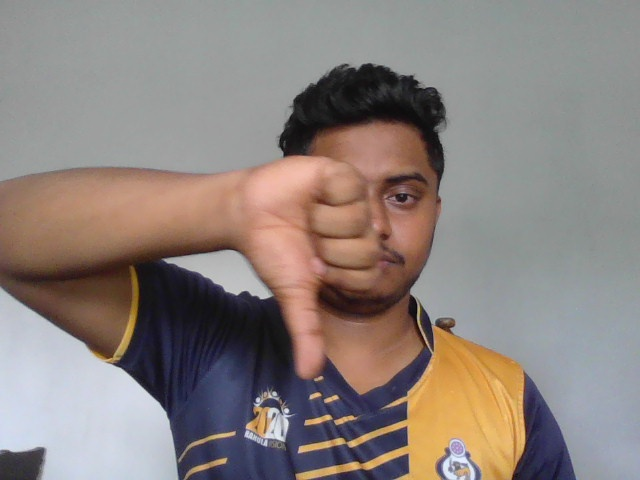Disagree: (239, 156, 381, 383)
